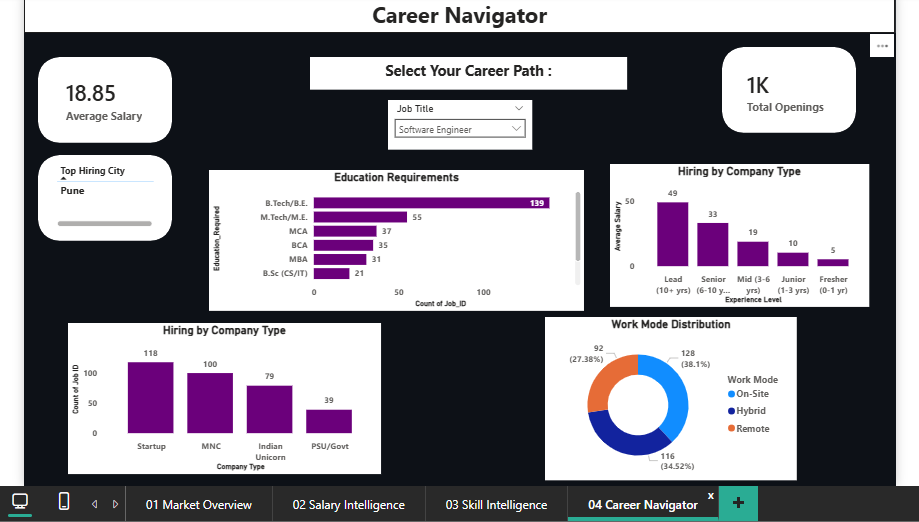

Layout of this report page (visuals, bound fields, positions):
{"tool":"powerbi","page":{"name":"04 Career Navigator","canvas":[1280,720],"ordinal":3},"visuals":[{"type":"textbox","box":[0,0,1279.8,54.4],"z":0},{"type":"textbox","box":[420.2,89.6,465.8,48.5],"z":1000},{"type":"slicer","fields":{"Values":["india_job_market_2024_2026.Job_Title"]},"box":[534.9,152.8,211.6,73.5],"z":2000},{"type":"shape","box":[20.6,89.6,196.9,126.4],"z":3000},{"type":"cardVisual","fields":{"Data":["Avg(india_job_market_2024_2026.Salary_LPA)"]},"box":[32.3,97,171.9,111.7],"z":4000},{"type":"shape","box":[20.6,233.6,196.9,126.4],"z":5000},{"type":"tableEx","fields":{"Values":["india_job_market_2024_2026.Top Hiring City"]},"box":[42.6,241,152.8,102.9],"z":6000},{"type":"clusteredBarChart","title":"Education Requirements","fields":{"Category":["india_job_market_2024_2026.Education_Required"],"Y":["CountNonNull(india_job_market_2024_2026.Job_ID)"]},"box":[271.8,255.7,551,207.2],"z":7000},{"type":"shape","box":[1025.6,74.9,196.9,126.4],"z":8000},{"type":"cardVisual","fields":{"Data":["Sum(india_job_market_2024_2026.Openings)"]},"box":[1033,91.1,182.2,98.4],"z":9000},{"type":"clusteredColumnChart","title":"Hiring by Company Type","fields":{"Category":["india_job_market_2024_2026.Company_Type"],"Y":["CountNonNull(india_job_market_2024_2026.Job_ID)"]},"box":[64.7,480.5,459.9,221.9],"z":10000},{"type":"clusteredColumnChart","title":"Hiring by Company Type","fields":{"Category":["india_job_market_2024_2026.Experience_Level"],"Y":["Avg(india_job_market_2024_2026.Salary_LPA)"]},"box":[861.1,246.9,380.6,210.1],"z":11000},{"type":"donutChart","title":"Work Mode Distribution","fields":{"Category":["india_job_market_2024_2026.Work_Mode"],"Y":["CountNonNull(india_job_market_2024_2026.Job_ID)"]},"box":[765.6,471.7,370.3,239.5],"z":12000}]}

Visuals, with their boxes in screenshot pixels (x1, y1, x2, y2):
textbox: rect(22, 0, 896, 30)
textbox: rect(309, 54, 627, 87)
slicer - india_job_market_2024_2026.Job_Title: rect(387, 97, 531, 147)
shape: rect(36, 54, 170, 140)
cardVisual - Avg(india_job_market_2024_2026.Salary_LPA): rect(44, 59, 161, 135)
shape: rect(36, 152, 170, 239)
tableEx - india_job_market_2024_2026.Top Hiring City: rect(51, 157, 155, 228)
"Education Requirements" clusteredBarChart: rect(207, 167, 583, 309)
shape: rect(722, 44, 856, 130)
cardVisual - Sum(india_job_market_2024_2026.Openings): rect(727, 55, 851, 122)
"Hiring by Company Type" clusteredColumnChart: rect(66, 321, 380, 473)
"Hiring by Company Type" clusteredColumnChart: rect(610, 161, 870, 305)
"Work Mode Distribution" donutChart: rect(544, 315, 797, 479)
